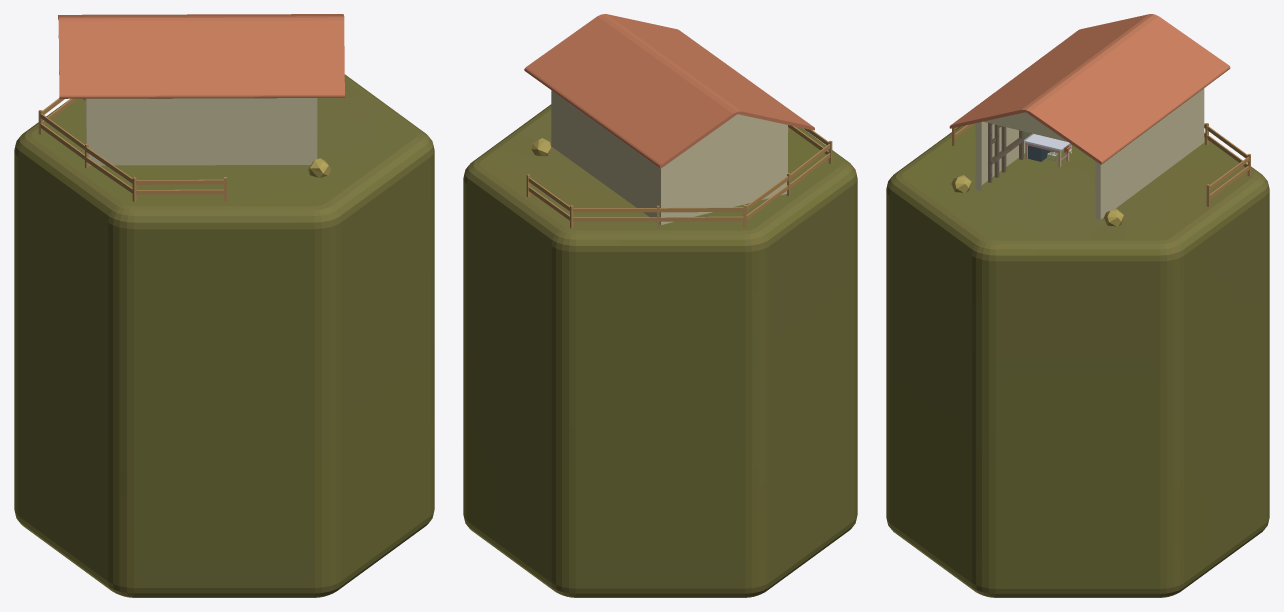
Rendered from Hex-garage.glb.
3 views of the same model, side by side, from view 1: azimuth 30°, elevation 25°; view 2: azimuth 150°, elevation 25°; view 3: azimuth 270°, elevation 25° (orthographic). The views are drawn at different scales.
Parts seen in each view (by area): view 1: Cylinder, Cube.092_Material.001_0, Cube.098_Material.001_0; view 2: Cylinder, Cube.092_Material.001_0, Cube.098_Material.001_0; view 3: Cylinder, Cube.092_Material.001_0, Cube.098_Material.001_0, Wood.001, Interior.
Part boxes in pixels (left/top/right/bottom): Cylinder: left=14, top=74, right=434, bottom=597; Cube.092_Material.001_0: left=58, top=14, right=344, bottom=165; Cube.098_Material.001_0: left=38, top=98, right=226, bottom=201; Cylinder: left=463, top=104, right=857, bottom=597; Cube.092_Material.001_0: left=524, top=14, right=814, bottom=224; Cube.098_Material.001_0: left=526, top=125, right=832, bottom=228; Cylinder: left=886, top=124, right=1269, bottom=597; Cube.092_Material.001_0: left=949, top=14, right=1230, bottom=219; Cube.098_Material.001_0: left=952, top=123, right=1250, bottom=206; Wood.001: left=988, top=123, right=1031, bottom=182; Interior: left=1024, top=134, right=1071, bottom=166.
Size of the model in its own units: 1.75 by 2.6 by 1.95.
7 materials, 6 textured.
